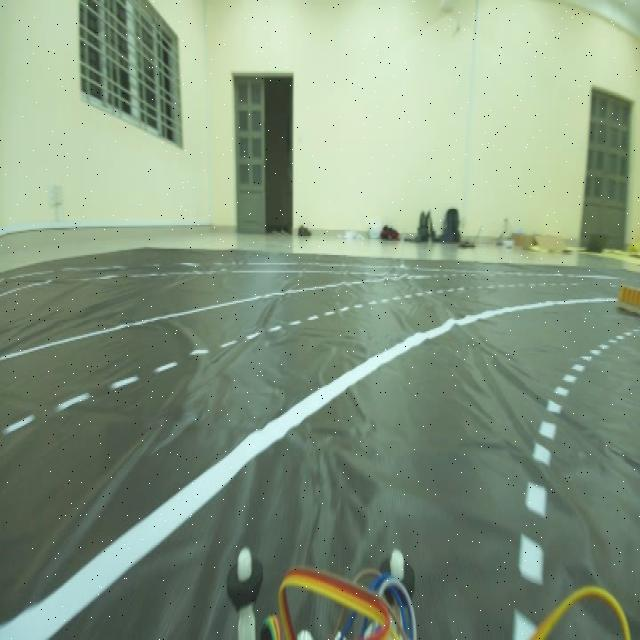roadblock: (612, 280, 640, 328)
